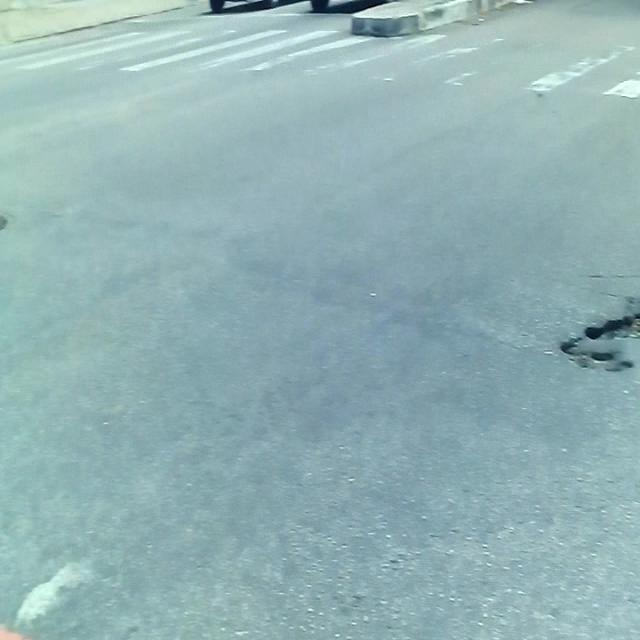crosswalk: (0, 23, 640, 107)
